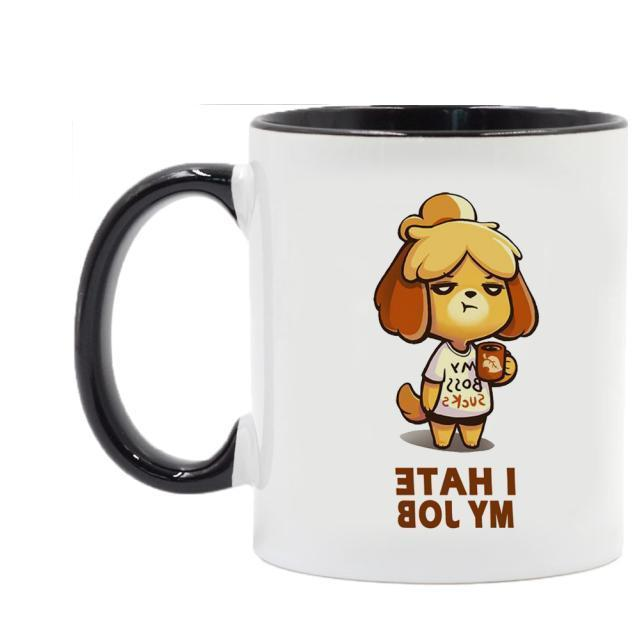taza: (63, 84, 633, 602)
